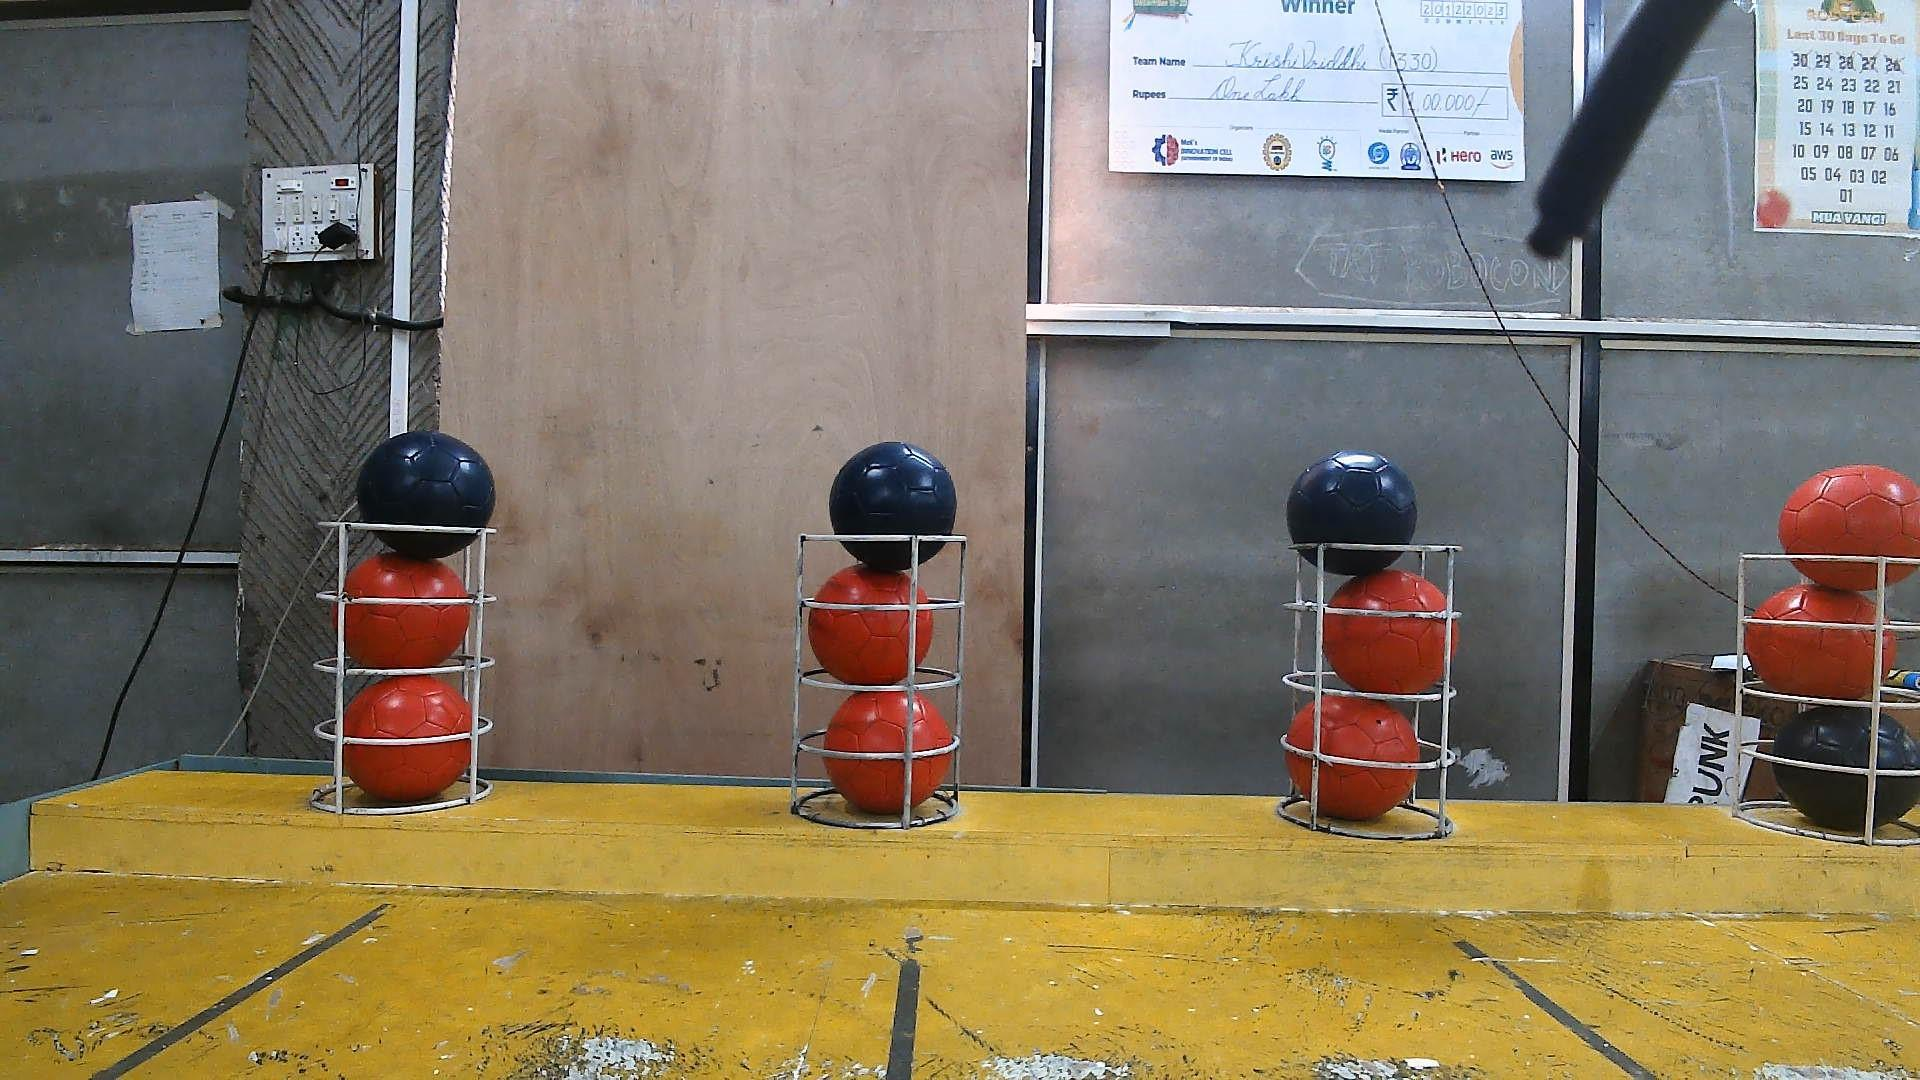dhoka: (1774, 705, 1920, 832), (356, 431, 495, 560), (1286, 450, 1418, 578), (828, 443, 956, 574)
laale: (1778, 465, 1920, 592), (1743, 585, 1898, 702), (1286, 694, 1422, 822), (338, 675, 472, 803), (1324, 570, 1458, 694), (822, 690, 952, 814), (331, 551, 468, 667), (806, 566, 934, 686)
